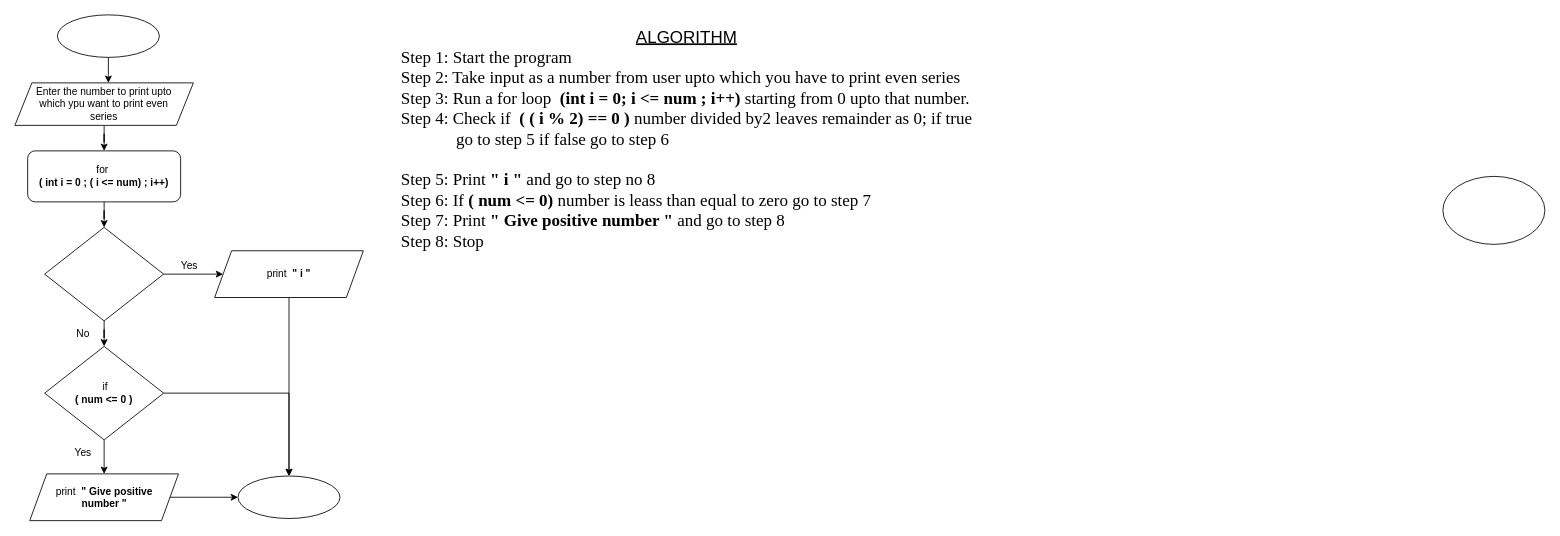
This 1560x536 diagram has some shape labels left out. Here are the shapes that lost their labels. From the top down, the box of each, then its label:
(57, 14, 159, 57): Start
(44, 227, 164, 321): Check if ( (i % 2) == 0 )
(237, 475, 340, 518): Stop
